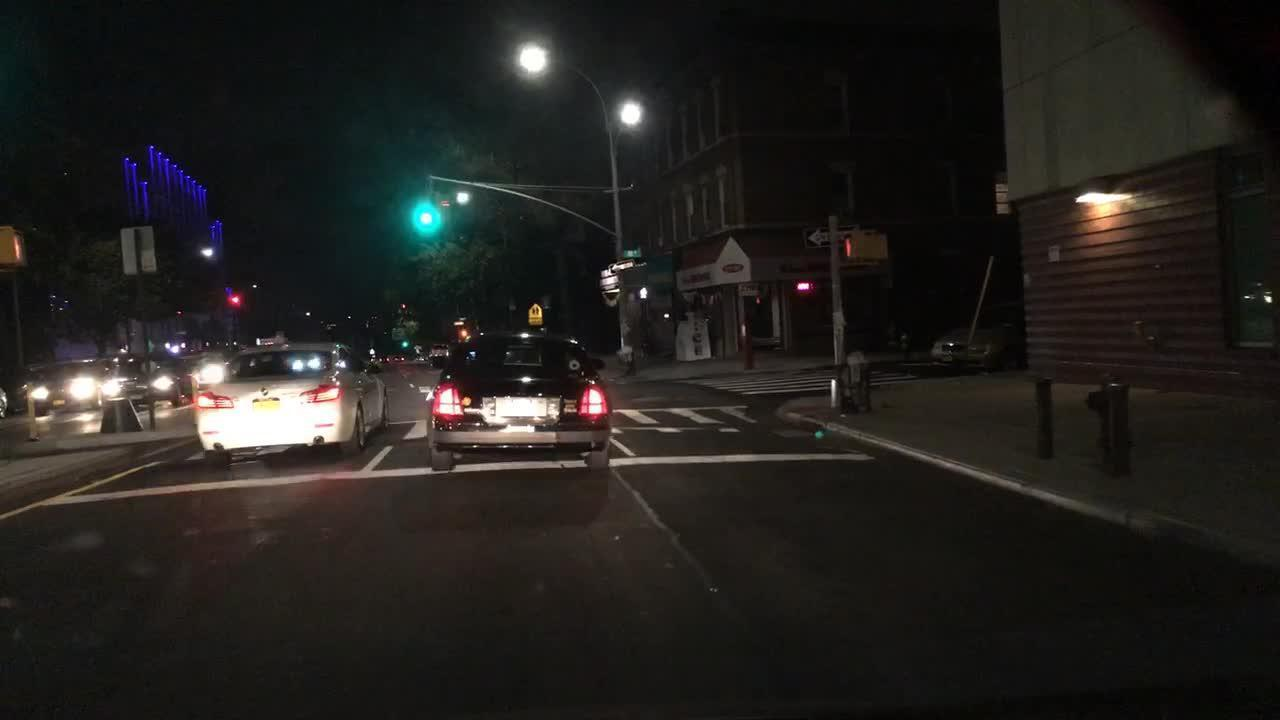bmw: (256, 383, 272, 397)
